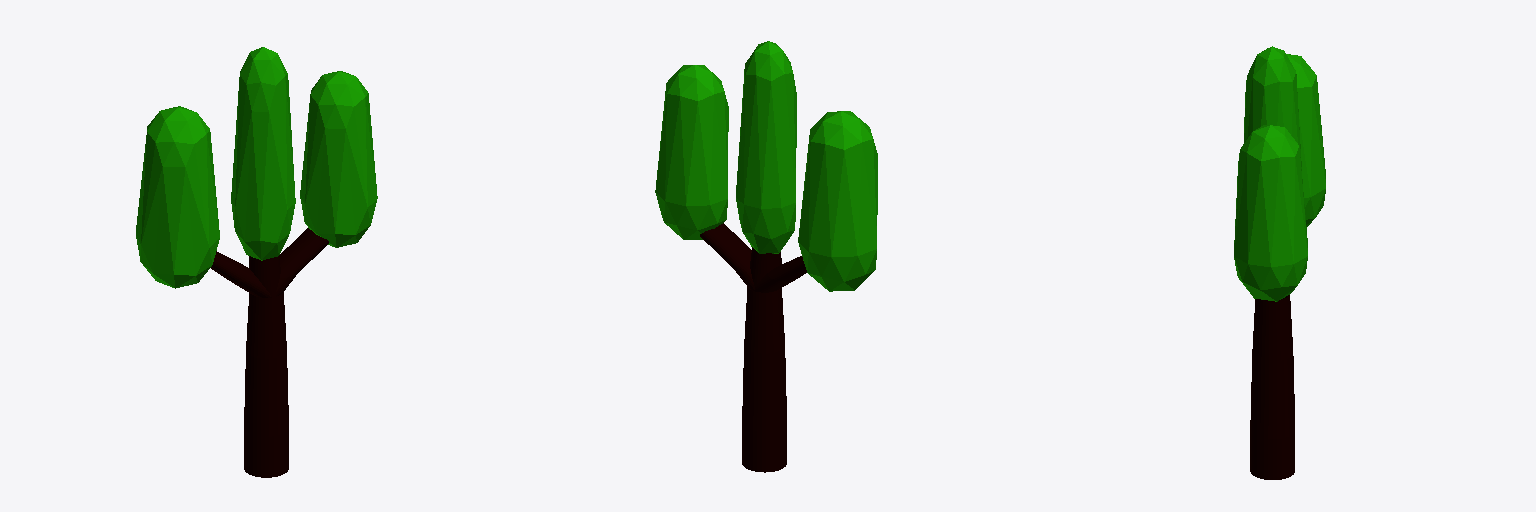
The model's file is tree.obj.
3 views of the same model, side by side, from view 1: azimuth 30°, elevation 25°; view 2: azimuth 150°, elevation 25°; view 3: azimuth 270°, elevation 25° (orthographic).
Parts seen in each view (by area): view 1: Icosphere.002; view 2: Icosphere.002; view 3: Icosphere.002.
Part boxes in pixels (x1,y1,x2,y2): Icosphere.002: (136,47,377,477); Icosphere.002: (655,41,877,472); Icosphere.002: (1234,46,1325,479).
Size of the model in its own units: 7.03 by 12.65 by 2.51.